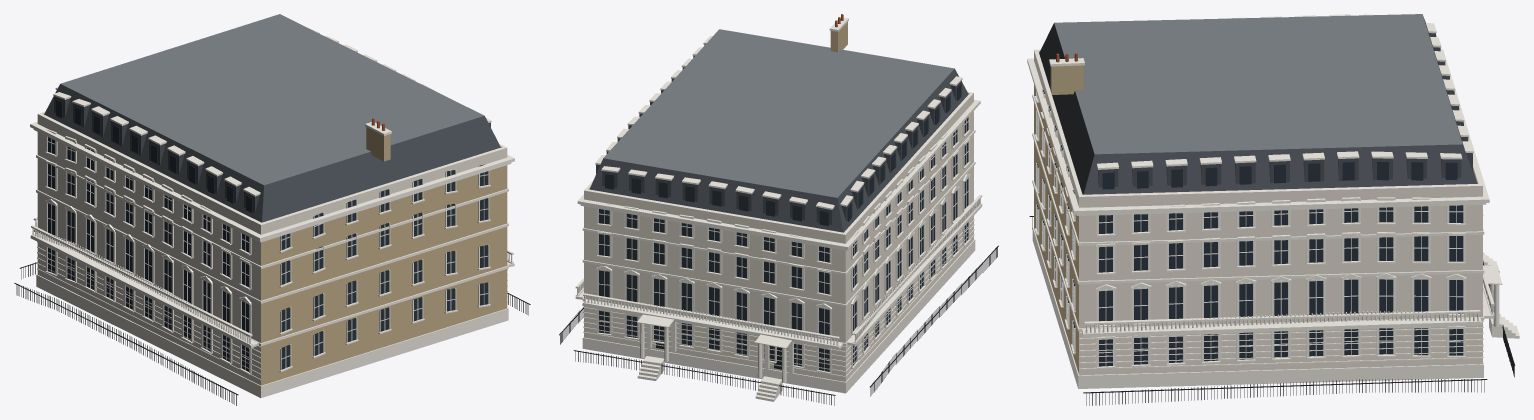
The model's file is cheval_hyde_park_gate.glb.
3 views of the same model, side by side, from view 1: azimuth 30°, elevation 25°; view 2: azimuth 150°, elevation 25°; view 3: azimuth 270°, elevation 25° (orthographic). The views are drawn at different scales.
Size of the model in its own units: 34.59 by 22.98 by 37.06.
